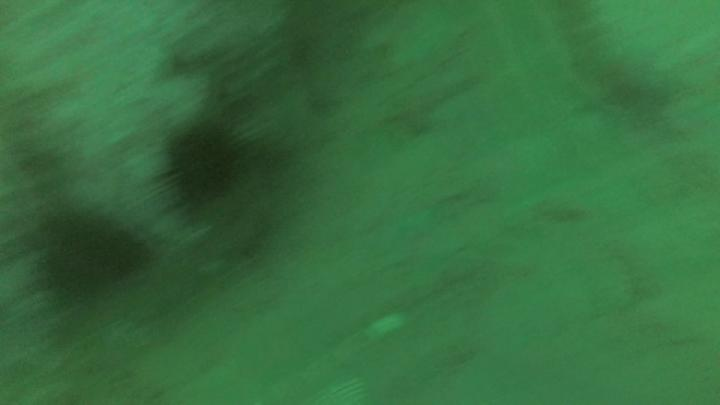echinus: (154, 114, 268, 220), (43, 206, 144, 301)
